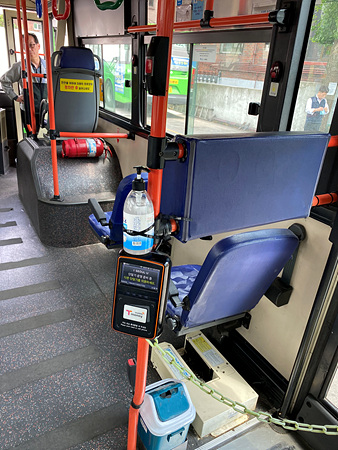terminal: (116, 255, 164, 337)
